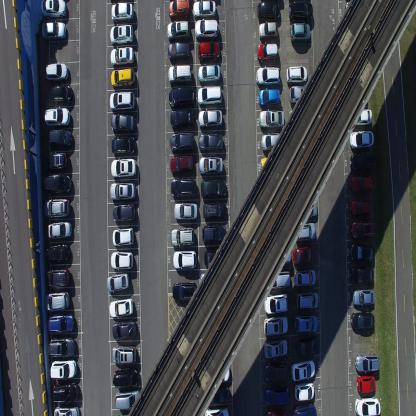car: (42, 173, 72, 194), (263, 269, 291, 291), (349, 172, 377, 194), (48, 335, 76, 357), (109, 89, 135, 112), (349, 150, 376, 172), (350, 219, 377, 241), (263, 383, 290, 405), (40, 20, 67, 42), (51, 380, 78, 402), (288, 221, 316, 242), (42, 197, 70, 218), (109, 23, 134, 46), (170, 178, 196, 200), (168, 85, 194, 107), (260, 156, 286, 178), (290, 358, 316, 380), (115, 388, 141, 410), (113, 365, 139, 387), (110, 156, 136, 178), (110, 134, 136, 156), (43, 150, 69, 172), (49, 358, 77, 378), (292, 244, 316, 267), (264, 292, 288, 315), (110, 66, 134, 89), (110, 0, 134, 23), (169, 107, 194, 129), (197, 85, 222, 107), (288, 0, 313, 22), (263, 315, 288, 337), (263, 360, 288, 382), (200, 178, 226, 199), (292, 198, 318, 219), (293, 313, 319, 334), (44, 107, 70, 128), (44, 267, 70, 288), (44, 290, 70, 311), (202, 222, 226, 244), (170, 226, 194, 248), (197, 40, 221, 62), (256, 64, 280, 86), (296, 334, 320, 356), (112, 343, 136, 365), (109, 296, 133, 318), (111, 112, 135, 134), (166, 18, 190, 40), (198, 131, 223, 152), (170, 131, 195, 152), (349, 128, 374, 149), (349, 264, 374, 285), (204, 384, 230, 404), (258, 108, 284, 128), (44, 242, 70, 262), (48, 313, 74, 333), (354, 396, 381, 415), (109, 181, 136, 200), (50, 83, 73, 105), (198, 108, 222, 129), (194, 17, 218, 38), (112, 319, 136, 340), (112, 202, 136, 223), (261, 132, 286, 152), (350, 243, 375, 263), (350, 310, 375, 330), (263, 338, 288, 358), (172, 280, 197, 300), (266, 246, 292, 265), (347, 107, 373, 126), (40, 0, 66, 19), (203, 200, 226, 221), (197, 63, 220, 84), (168, 63, 191, 84), (173, 249, 196, 270), (285, 64, 308, 85), (106, 271, 129, 292), (110, 250, 134, 270), (110, 46, 134, 66), (49, 128, 73, 148), (198, 155, 223, 174), (354, 353, 379, 372), (44, 61, 69, 80), (167, 40, 189, 61), (258, 86, 280, 107), (256, 41, 278, 62), (294, 380, 315, 402), (112, 225, 134, 246), (170, 154, 193, 174), (207, 362, 230, 382), (192, 0, 216, 19), (256, 0, 280, 19), (199, 272, 223, 291), (173, 202, 198, 220), (203, 248, 228, 266), (47, 220, 72, 238), (288, 86, 310, 106), (296, 290, 318, 310), (290, 22, 310, 43), (294, 268, 316, 287), (168, 0, 190, 19), (258, 20, 278, 40), (356, 374, 376, 394), (353, 288, 375, 306), (350, 199, 372, 216), (292, 403, 317, 415), (53, 404, 80, 415), (204, 405, 229, 415), (266, 406, 288, 416)
